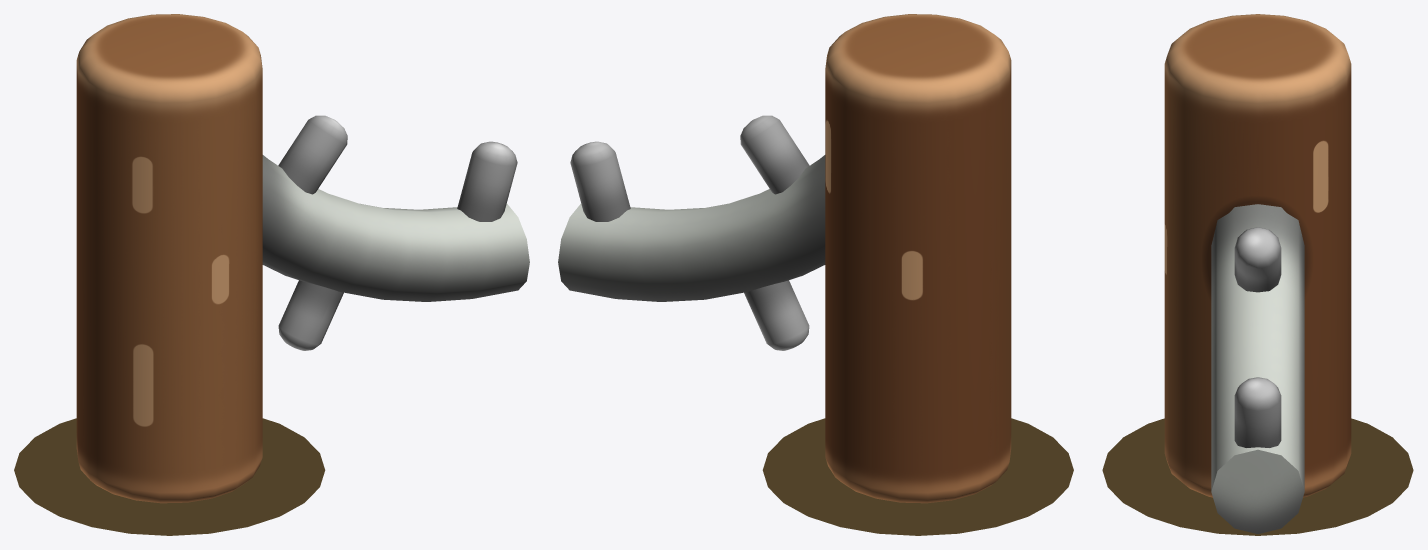
File: FenceC_L.fbx
3 views of the same model, side by side, from view 1: azimuth 30°, elevation 25°; view 2: azimuth 150°, elevation 25°; view 3: azimuth 270°, elevation 25° (orthographic).
Visible parts, largest first — view 1: L_fenceWood, L_LLine, LfenceC2side_SDW; view 2: L_fenceWood, L_LLine, LfenceC2side_SDW; view 3: L_fenceWood, L_LLine, LfenceC2side_SDW.
Part boxes in pixels (x1,y1,x2,y2): L_fenceWood: (76,14,262,503); L_LLine: (262,115,529,350); LfenceC2side_SDW: (14,418,325,535); L_fenceWood: (825,14,1011,503); L_LLine: (558,115,825,350); LfenceC2side_SDW: (762,418,1073,535); L_fenceWood: (1164,14,1351,497); L_LLine: (1211,204,1304,533); LfenceC2side_SDW: (1102,418,1413,535).
Bounding box in the file's own units: 71.15 × 60 × 40.
2 materials, 1 textured.
